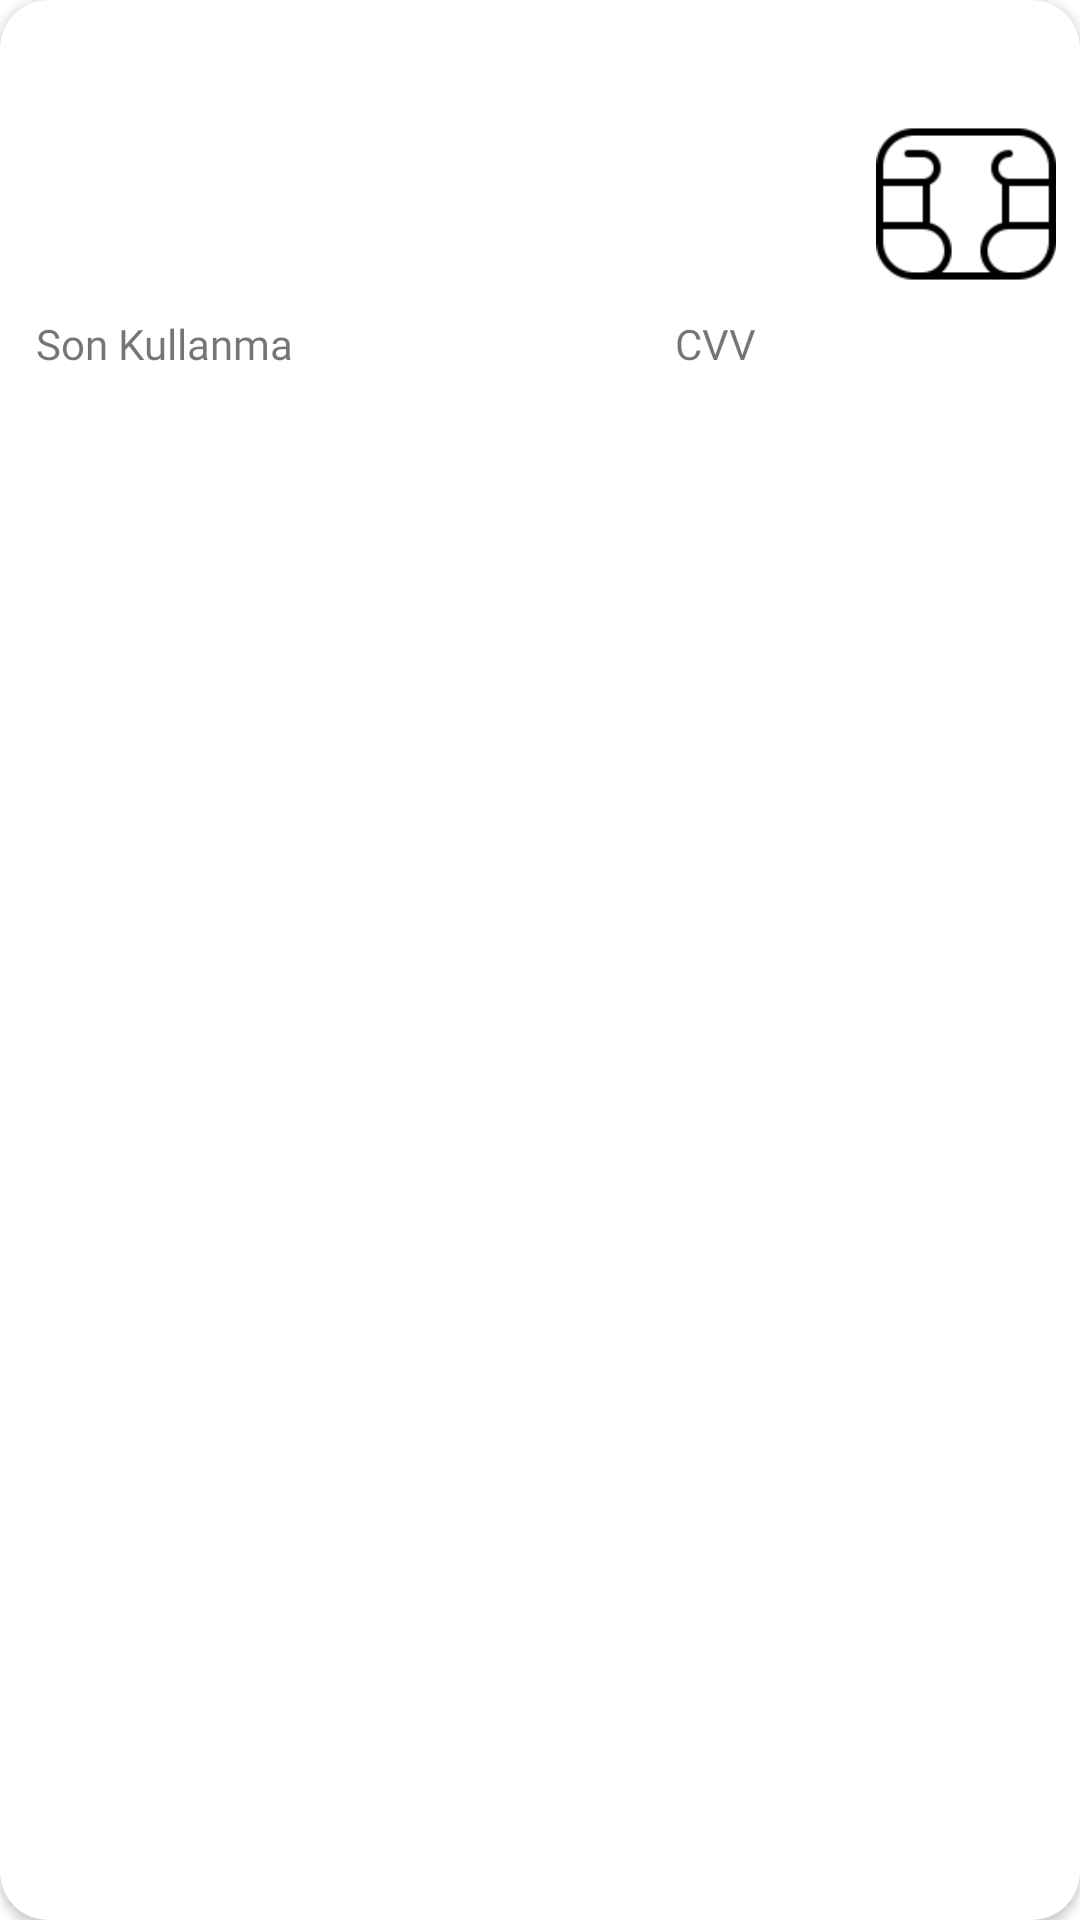

Named icons in this screenshot (1080px×1920px) and their centers, (x=x, y=y):
credit card chip: (x=966, y=204)
